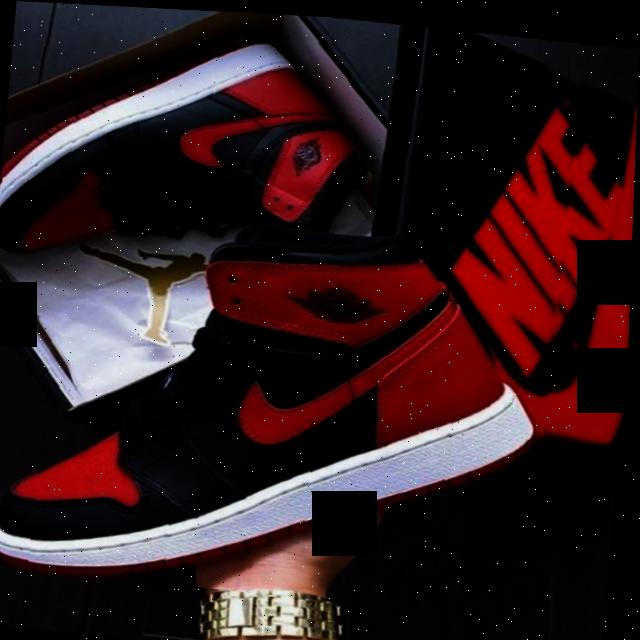shoe: (0, 7, 584, 617)
